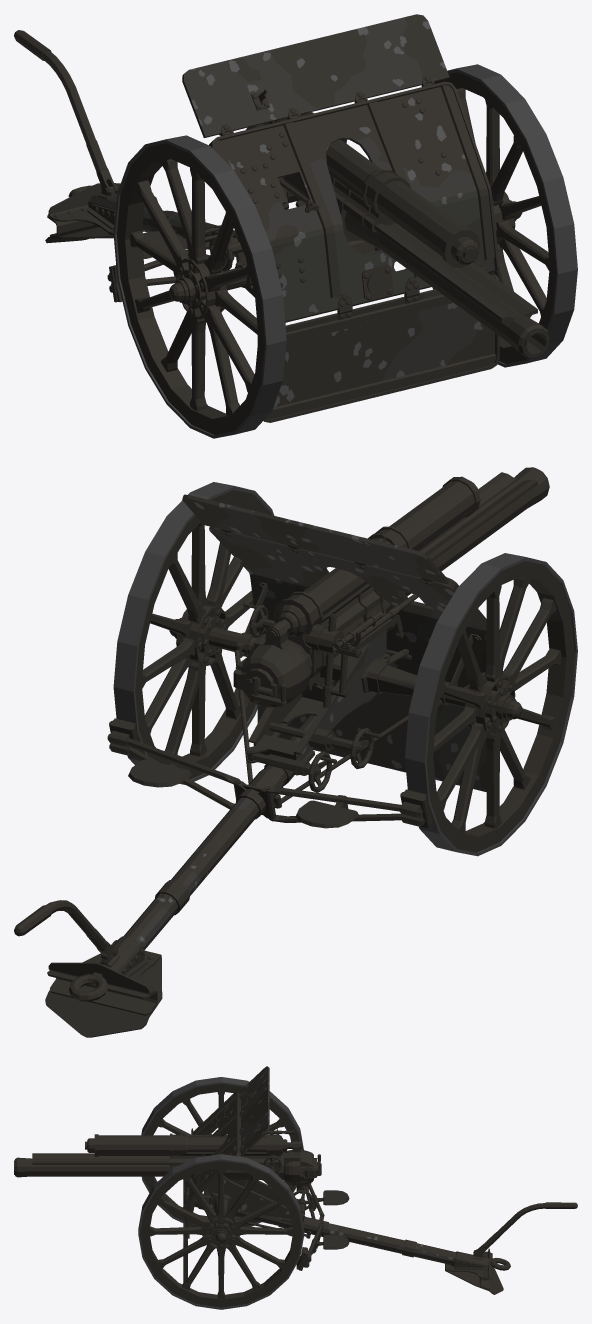
File: Veh_QF-18_01.fbx
3 renders of one model, top to bottom at view 1: azimuth 30°, elevation 25°; view 2: azimuth 150°, elevation 25°; view 3: azimuth 270°, elevation 25°, orthographic. The views are drawn at different scales.
Parts seen in each view (by area): view 1: Veh_QF-18_01_Shield_LOD0, Veh_QF-18_01_Wheel_R_LOD0, Veh_QF-18_01_Wheel_L_LOD0, Veh_QF-18_01_LOD0, Veh_QF-18_01_Cannon_LOD0, Veh_QF-18_01_Gun_LOD0; view 2: Veh_QF-18_01_LOD0, Veh_QF-18_01_Wheel_R_LOD0, Veh_QF-18_01_Shield_LOD0, Veh_QF-18_01_Wheel_L_LOD0, Veh_QF-18_01_Cannon_LOD0, Veh_QF-18_01_Gun_LOD0, Veh_QF-18_01_Shutter_LOD0; view 3: Veh_QF-18_01_Wheel_L_LOD0, Veh_QF-18_01_LOD0, Veh_QF-18_01_Gun_LOD0, Veh_QF-18_01_Shield_LOD0, Veh_QF-18_01_Cannon_LOD0, Veh_QF-18_01_Wheel_R_LOD0.
Part boxes in pixels (x1,y1,x2,y2): Veh_QF-18_01_Shield_LOD0: (182,14,499,422); Veh_QF-18_01_Wheel_R_LOD0: (113,135,286,438); Veh_QF-18_01_Wheel_L_LOD0: (432,64,577,367); Veh_QF-18_01_LOD0: (14,30,522,304); Veh_QF-18_01_Cannon_LOD0: (219,112,480,267); Veh_QF-18_01_Gun_LOD0: (246,121,549,357); Veh_QF-18_01_LOD0: (14,613,522,1037); Veh_QF-18_01_Wheel_R_LOD0: (405,553,577,856); Veh_QF-18_01_Shield_LOD0: (182,494,486,791); Veh_QF-18_01_Wheel_L_LOD0: (113,482,274,784); Veh_QF-18_01_Cannon_LOD0: (243,476,480,707); Veh_QF-18_01_Gun_LOD0: (235,467,549,707); Veh_QF-18_01_Shutter_LOD0: (233,660,286,706); Veh_QF-18_01_Wheel_L_LOD0: (138,1154,304,1309); Veh_QF-18_01_LOD0: (184,1175,577,1294); Veh_QF-18_01_Gun_LOD0: (14,1141,313,1185); Veh_QF-18_01_Shield_LOD0: (183,1066,269,1282); Veh_QF-18_01_Cannon_LOD0: (85,1127,294,1186); Veh_QF-18_01_Wheel_R_LOD0: (141,1077,303,1226).
Size of what is drawn, in the model's own units: 188 by 183 by 484.
